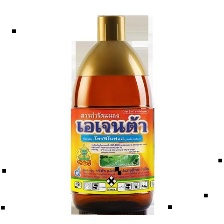insecticide: (65, 10, 157, 216)
